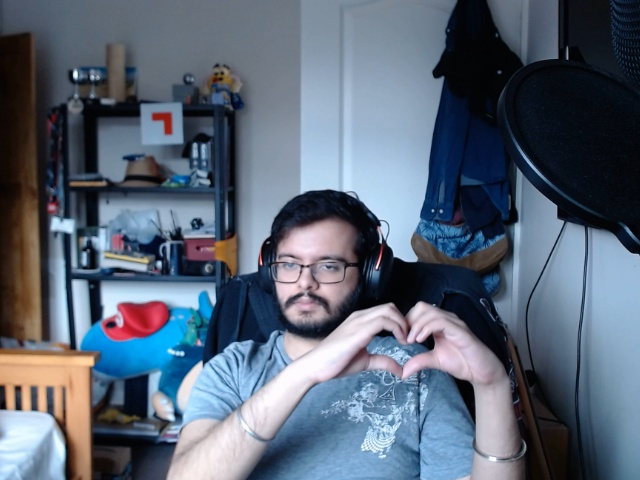Heart: (316, 298, 484, 383)
